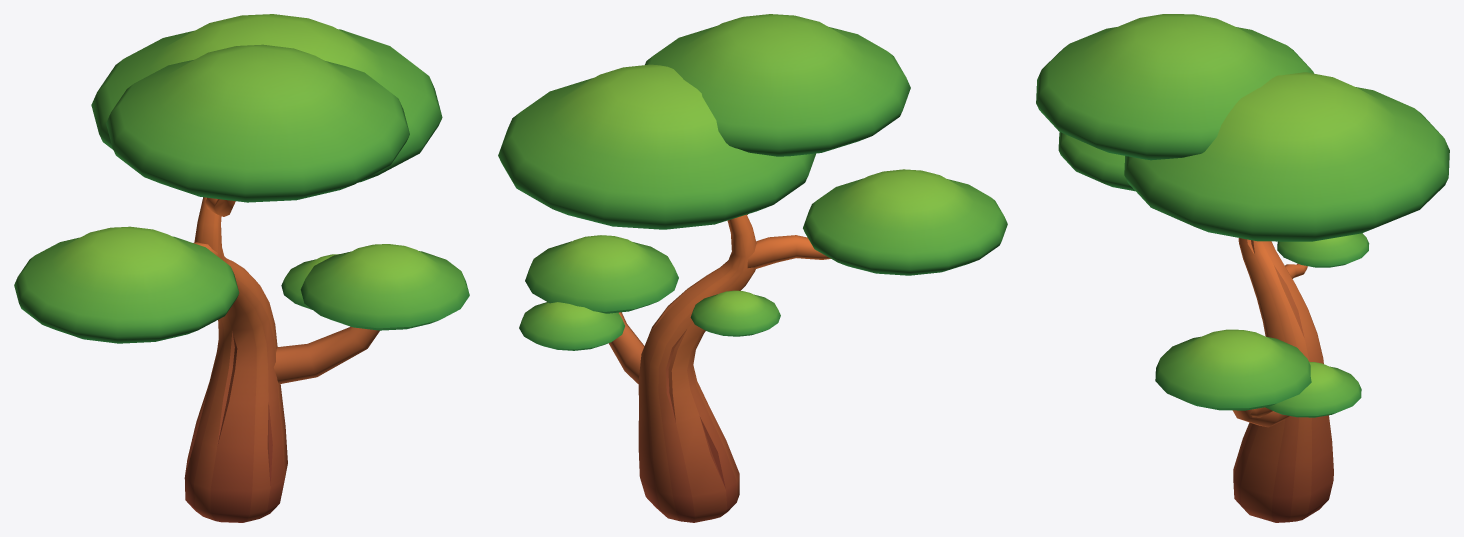
File: Tree3C.glb
3 renders of one model, left to right at view 1: azimuth 30°, elevation 25°; view 2: azimuth 150°, elevation 25°; view 3: azimuth 270°, elevation 25°, orthographic. The views are drawn at different scales.
Visible parts, largest first — view 1: Tree_3_C_Color1; view 2: Tree_3_C_Color1; view 3: Tree_3_C_Color1.
Boxes of the visible parts, x1,y1,x2,y2 form: Tree_3_C_Color1: (14,14,469,522); Tree_3_C_Color1: (498,14,1007,522); Tree_3_C_Color1: (1036,14,1449,522).
Bounding box in the file's own units: 5.63 × 5.79 × 4.62.
1 material, 1 textured.
